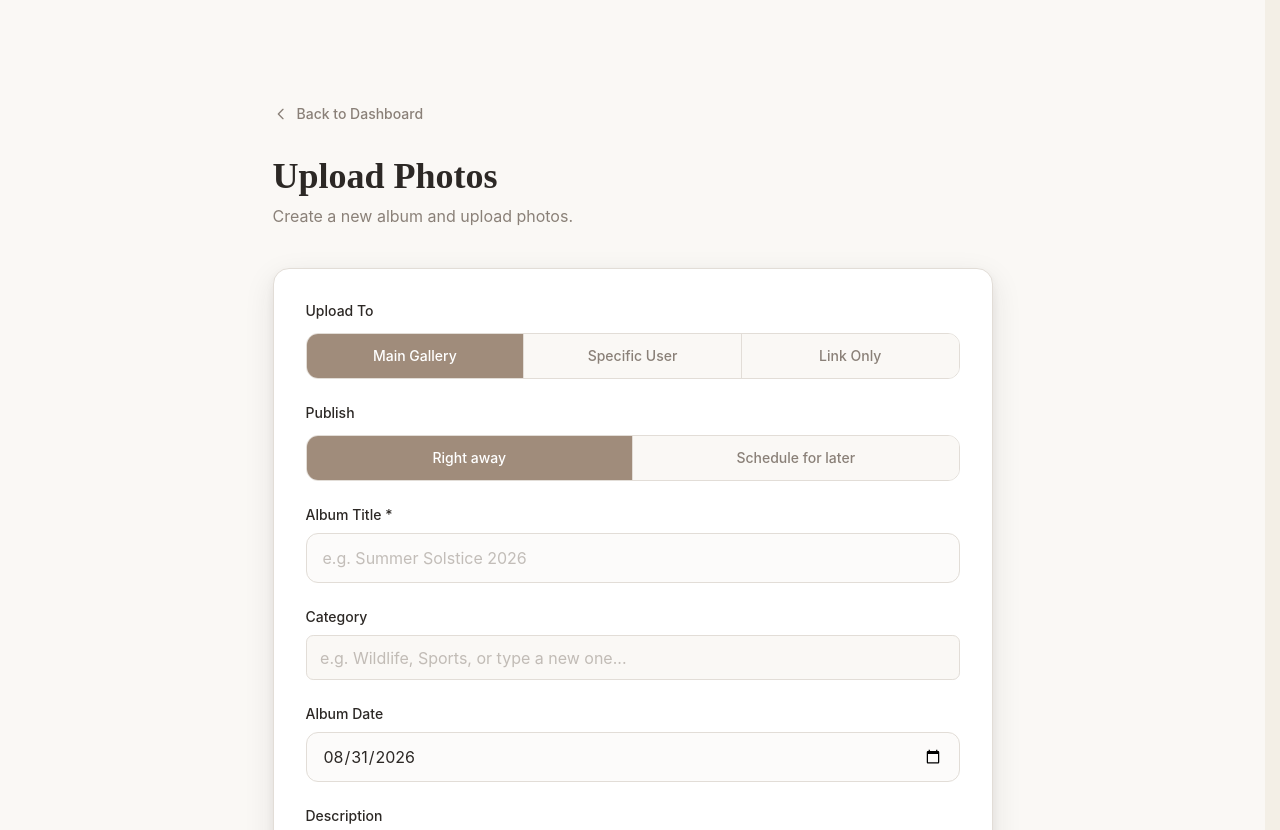
Admin photo upload › clears a selected owner when returning to the main gallery
Click the button "Specific User" at x=632, y=356, box [523,334,741,378]
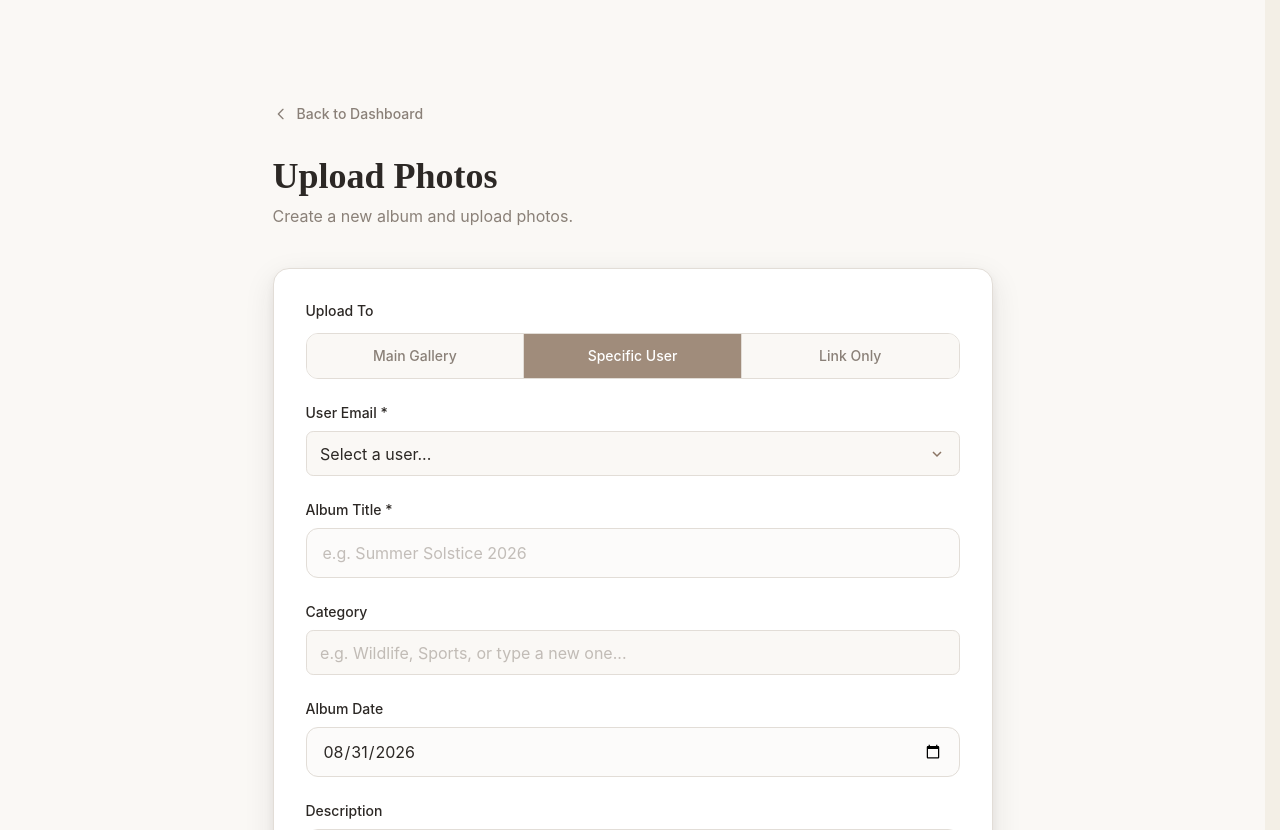
Click the dropdown named "User Email *" at x=376, y=454, box [306,431,960,476]
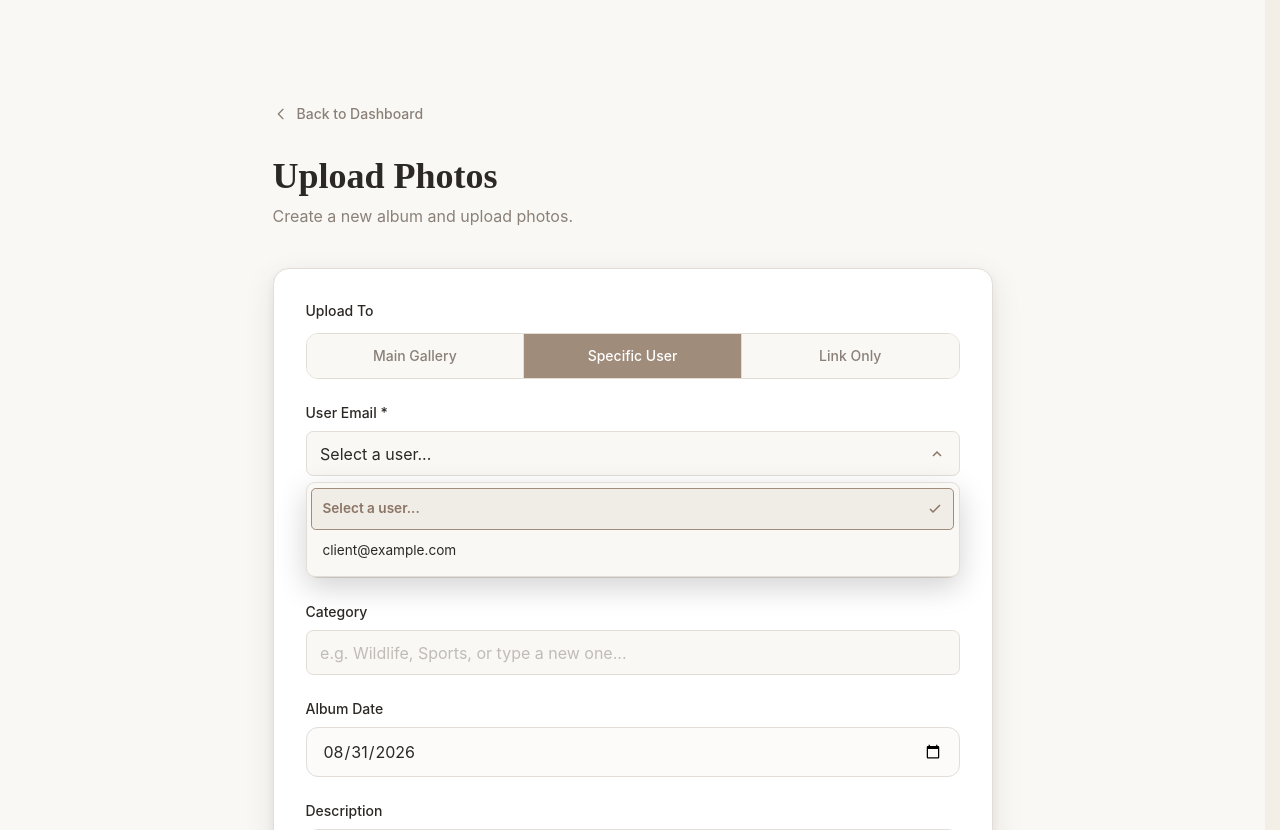
Result: the option "client@example.com" is shown
Click the option "client@example.com" at x=389, y=550, box [322,542,456,558]
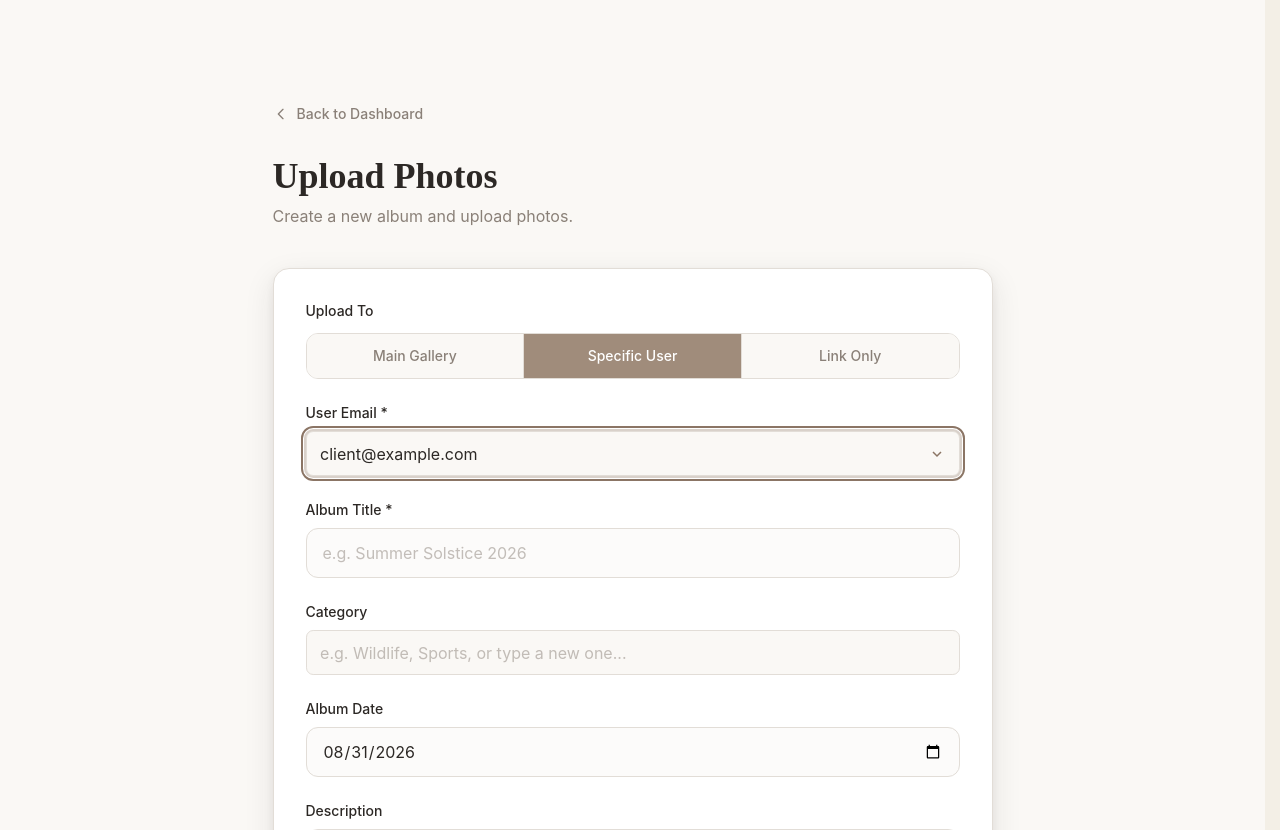
Click the button "Main Gallery" at x=415, y=356, box [306,334,523,378]
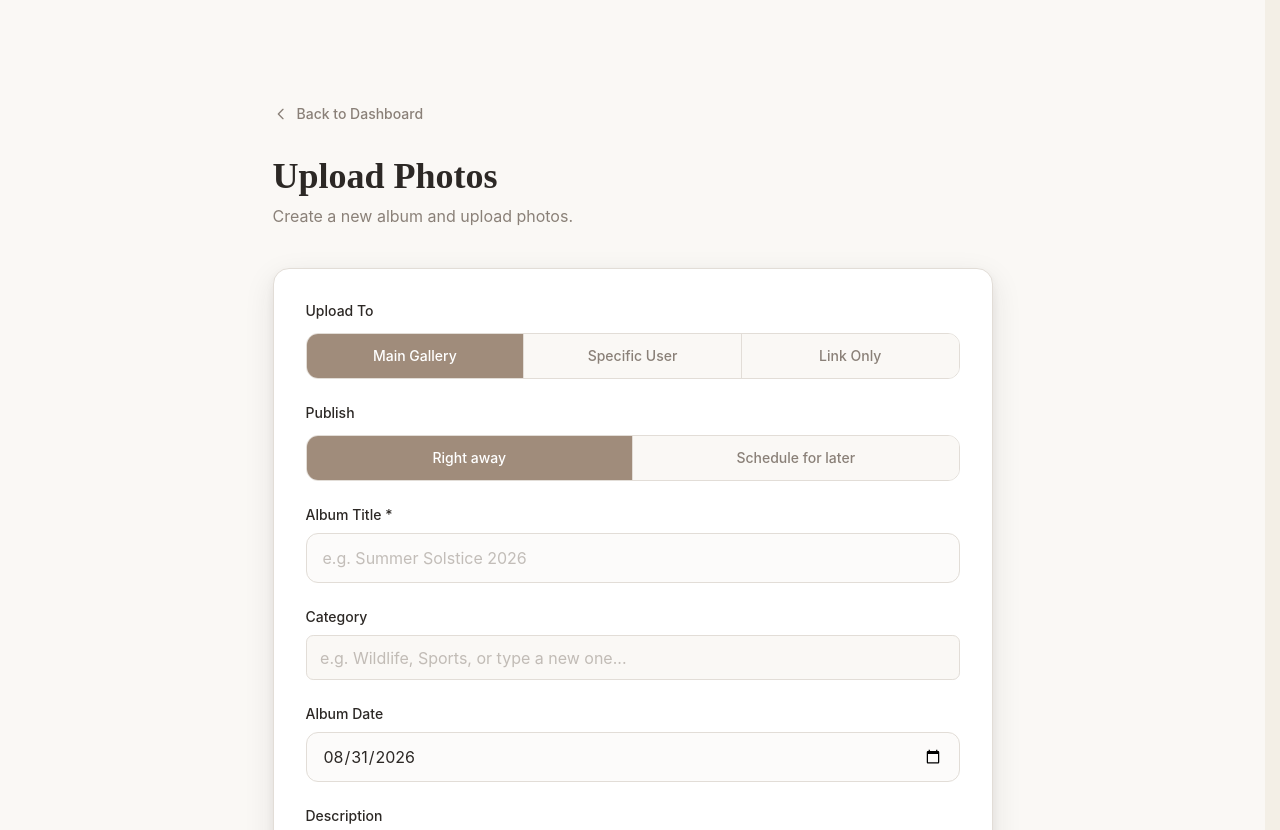
Result: the label labelled "User Email *" is gone
